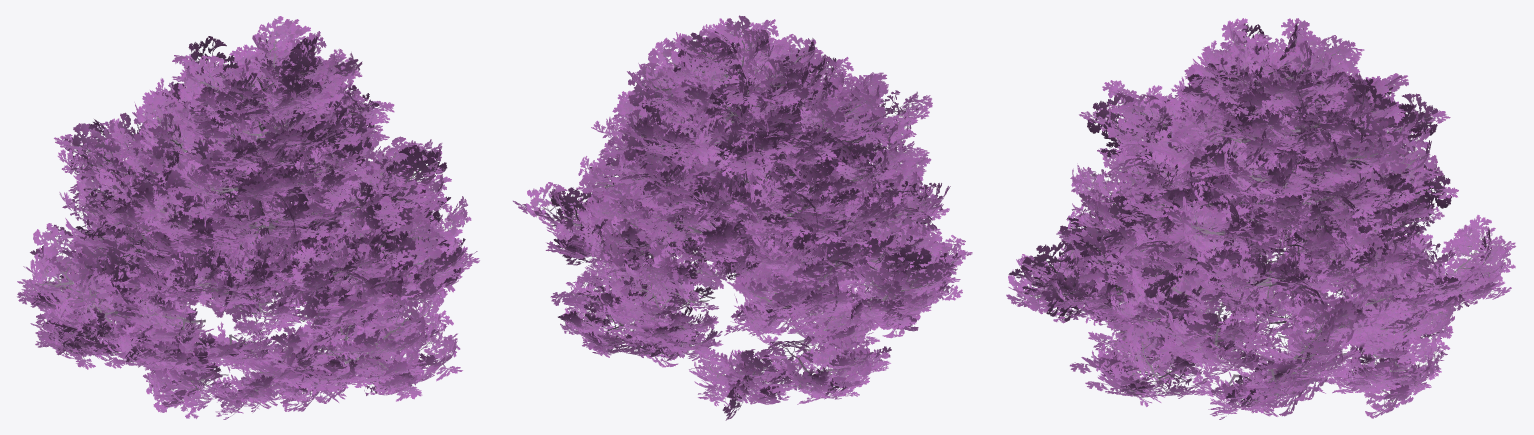
The picture shows the model from 3 angles, left to right: view 1: azimuth 30°, elevation 25°; view 2: azimuth 150°, elevation 25°; view 3: azimuth 270°, elevation 25°; orthographic projection. The views are drawn at different scales.
Parts seen in each view (by area): view 1: SM_FH_Oak_Tree_01_Canopy_LOD0; view 2: SM_FH_Oak_Tree_01_Canopy_LOD0; view 3: SM_FH_Oak_Tree_01_Canopy_LOD0.
Boxes of the visible parts, x1,y1,x2,y2 form: SM_FH_Oak_Tree_01_Canopy_LOD0: (17, 16, 479, 419); SM_FH_Oak_Tree_01_Canopy_LOD0: (513, 15, 972, 420); SM_FH_Oak_Tree_01_Canopy_LOD0: (1006, 18, 1515, 419).
Size of the model in its own units: 18.67 by 13.56 by 17.95.
Materials: 1 (1 with a texture image).
